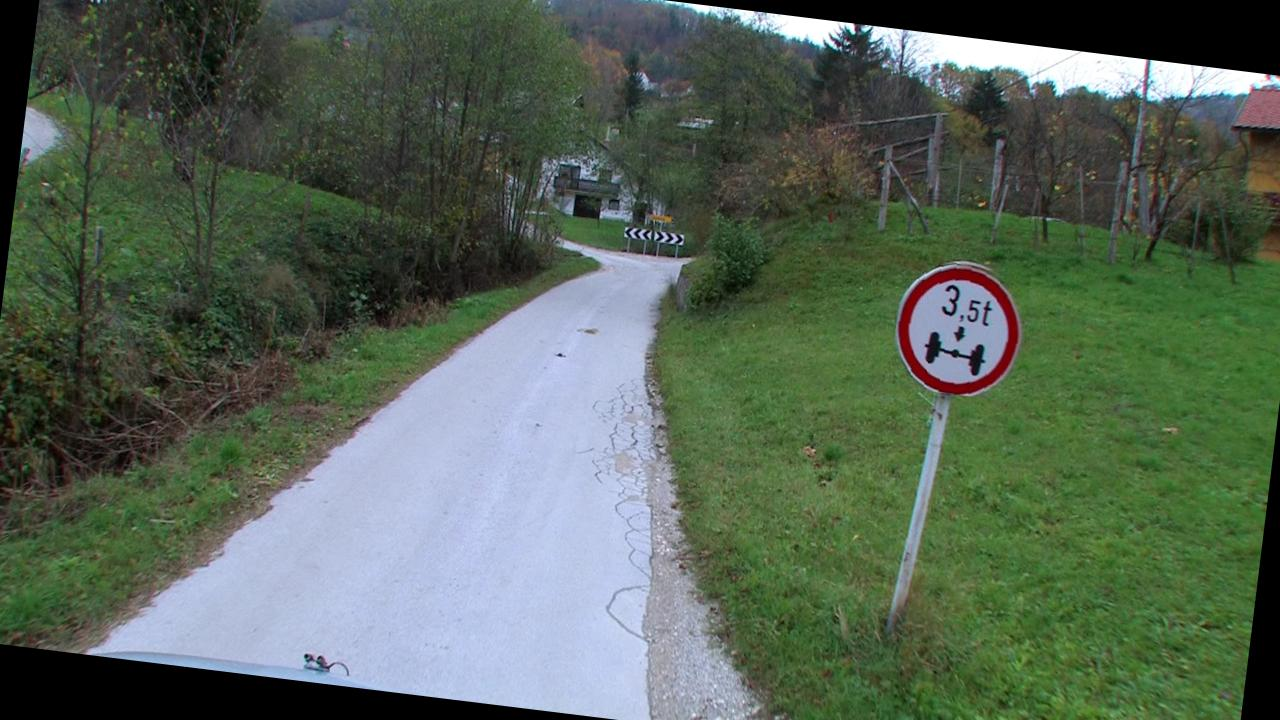Round: (889, 254, 1032, 402)
